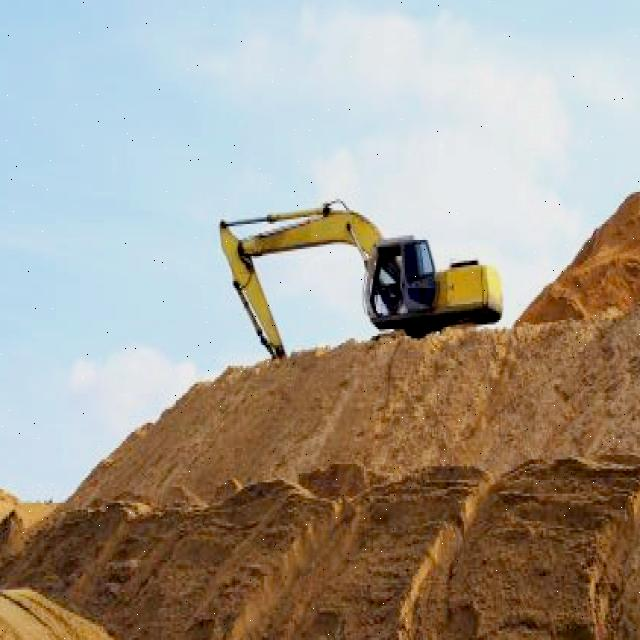Excavator: (220, 197, 504, 360)
